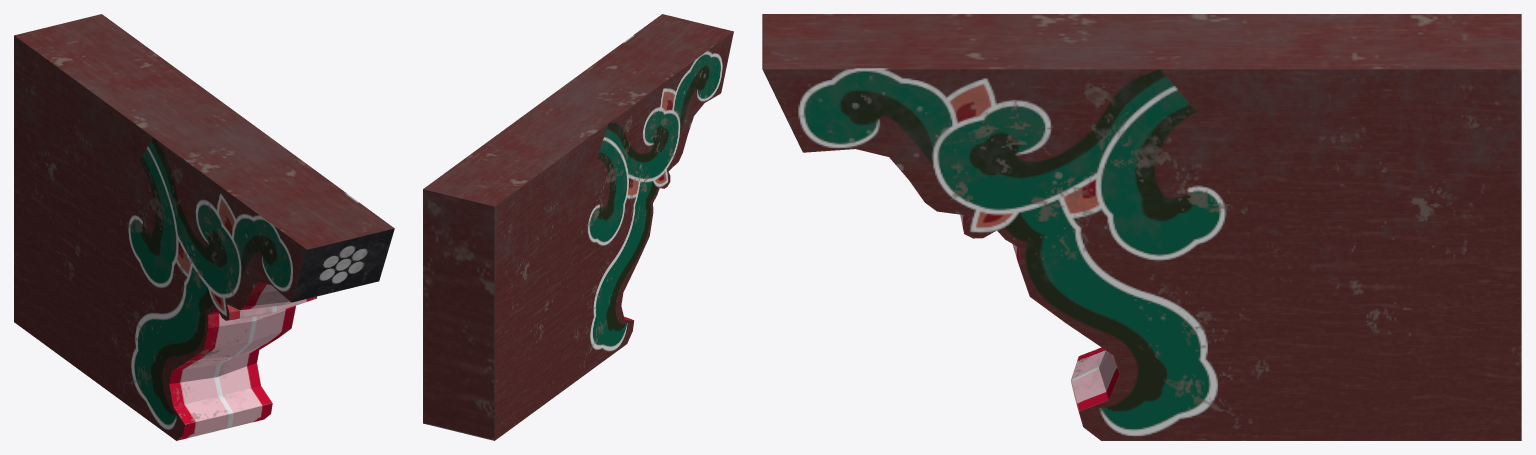
The model's file is SM_Gongpo01e.fbx.
3 views of the same model, side by side, from view 1: azimuth 30°, elevation 25°; view 2: azimuth 150°, elevation 25°; view 3: azimuth 270°, elevation 25° (orthographic). The views are drawn at different scales.
Parts seen in each view (by area): view 1: SM_Gongpo01e; view 2: SM_Gongpo01e; view 3: SM_Gongpo01e.
Boxes of the visible parts, bbox=[...] form: SM_Gongpo01e: bbox=[14, 14, 394, 440]; SM_Gongpo01e: bbox=[423, 14, 733, 440]; SM_Gongpo01e: bbox=[762, 14, 1521, 440].
Size of the model in its own units: 8 by 46.28 by 25.
1 material, 1 textured.
